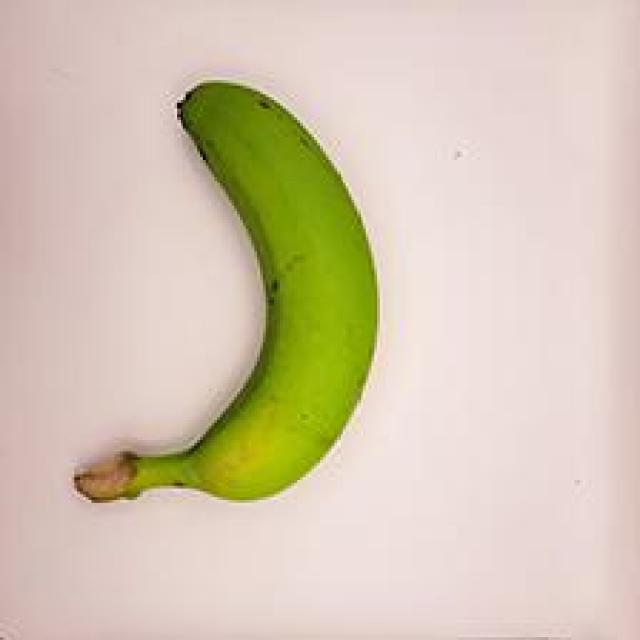unripe: (28, 71, 406, 513)
